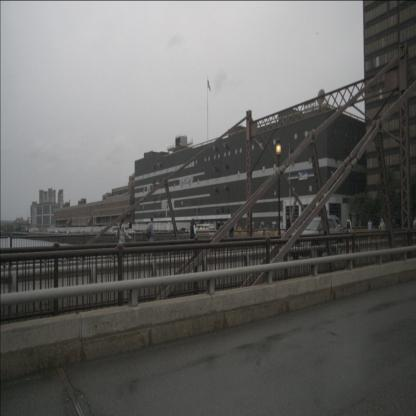human-pedestrian-adult: (115, 218, 132, 260), (146, 215, 156, 258), (188, 218, 198, 256), (228, 212, 236, 254), (345, 216, 354, 248), (285, 214, 292, 248), (379, 217, 386, 242), (367, 218, 373, 242), (413, 216, 415, 241)
vehicle-car: (289, 216, 345, 260)
vehicle-truck: (206, 224, 215, 233), (195, 224, 204, 232), (202, 224, 210, 232), (199, 224, 206, 232)
